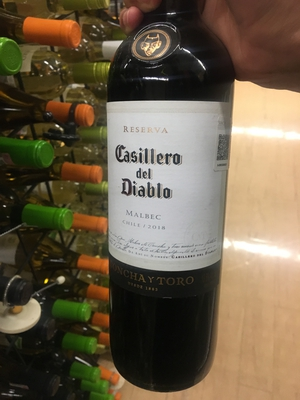casillero del diablo malbec: (100, 35, 245, 388)
